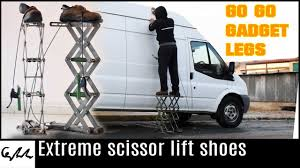Scissor Lift: (49, 20, 105, 136)
